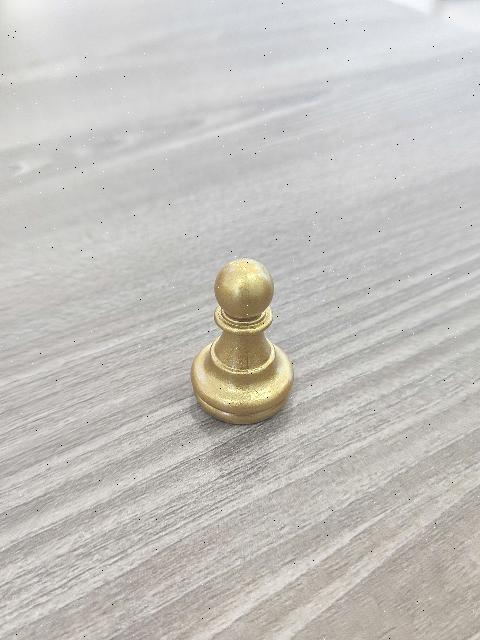black_pawn: (186, 256, 298, 431)
